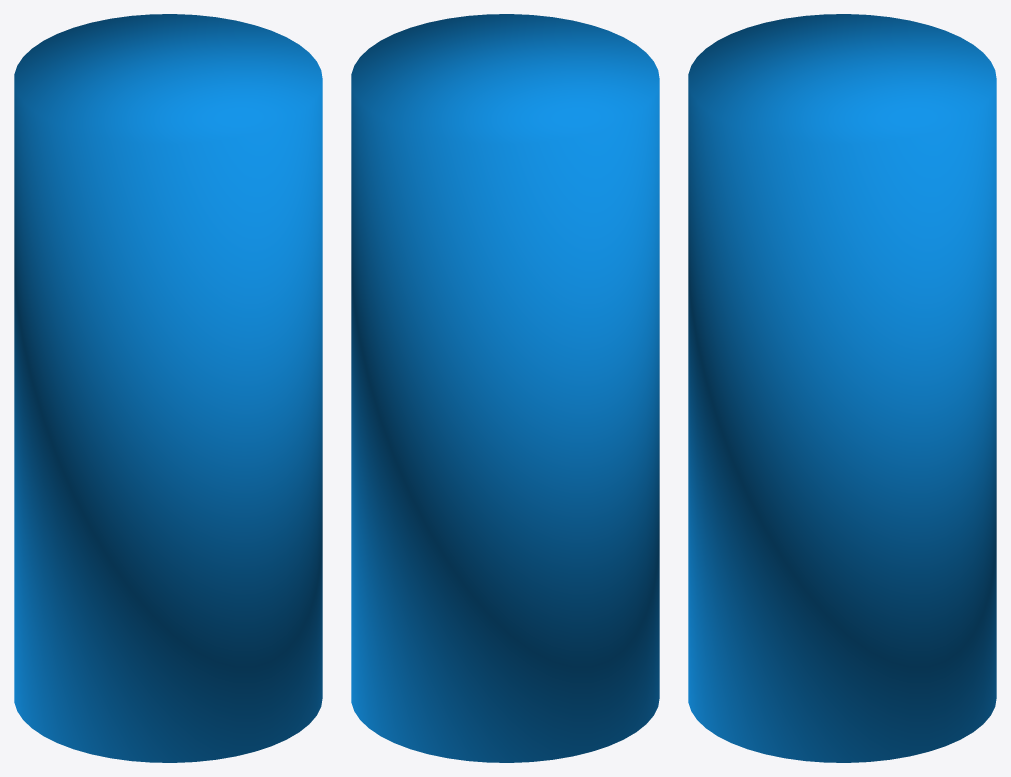
3 renders of one model, left to right at view 1: azimuth 30°, elevation 25°; view 2: azimuth 150°, elevation 25°; view 3: azimuth 270°, elevation 25°, orthographic.
Visible parts, largest first — view 1: Цилиндр; view 2: Цилиндр; view 3: Цилиндр.
Boxes of the visible parts, bbox=[...] form: Цилиндр: bbox=[14, 14, 322, 762]; Цилиндр: bbox=[351, 14, 659, 762]; Цилиндр: bbox=[688, 14, 996, 762].
Size of the model in its own units: 200 by 442 by 200.
